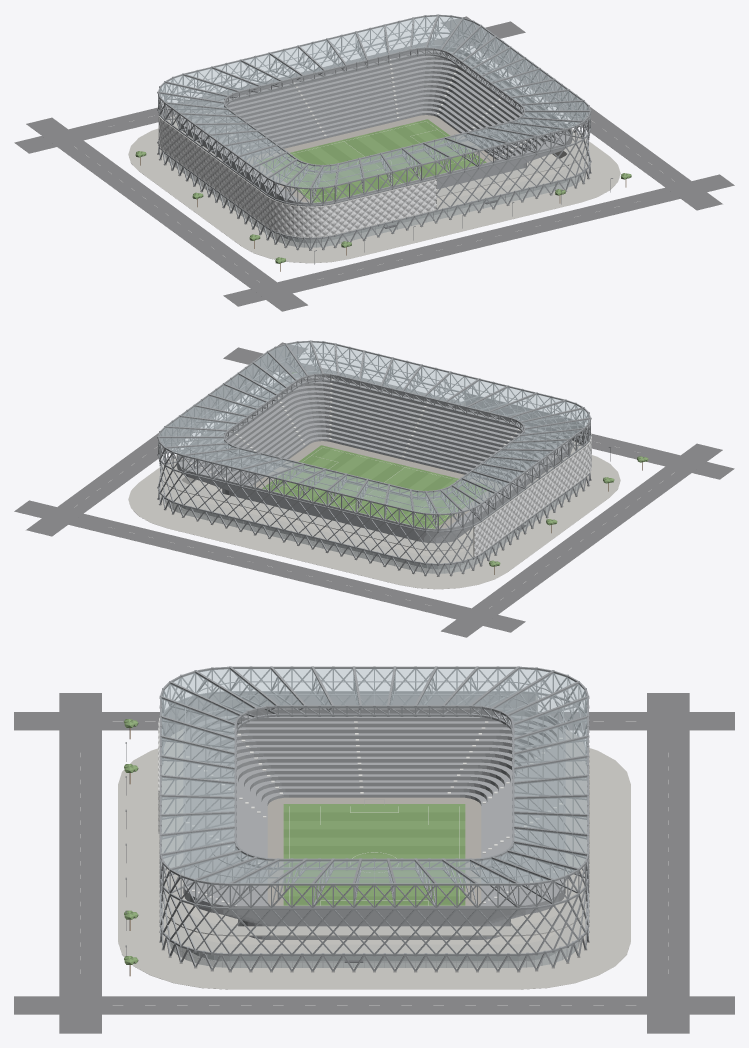
File: clay-etfe-truss-stadium-clay-v002.glb
The picture shows the model from 3 angles, top to bottom: view 1: azimuth 30°, elevation 25°; view 2: azimuth 150°, elevation 25°; view 3: azimuth 270°, elevation 25°; orthographic projection. The views are drawn at different scales.
Parts seen in each view (by area): view 1: CLAY_STEEL, CLAY_GLASS, CLAY_SEAT, CLAY_ASPHALT, CLAY_PAVING, CLAY_ETFE, CLAY_PITCH2, CLAY_PITCH, CLAY_CONCRETE, CLAY_TRIM, CLAY_TRACK, CLAY_PALE (+1 smaller); view 2: CLAY_STEEL, CLAY_SEAT, CLAY_GLASS, CLAY_ASPHALT, CLAY_PAVING, CLAY_CONCRETE, CLAY_PITCH2, CLAY_PITCH, CLAY_ETFE, CLAY_TRACK, CLAY_TRIM, CLAY_INTERIOR (+2 smaller); view 3: CLAY_STEEL, CLAY_SEAT, CLAY_GLASS, CLAY_ASPHALT, CLAY_PAVING, CLAY_CONCRETE, CLAY_PITCH2, CLAY_PITCH, CLAY_TRACK, CLAY_ETFEBACK, CLAY_INTERIOR, CLAY_PALE (+1 smaller).
Part boxes in pixels (x1,y1,x2,y2): CLAY_STEEL: (157, 14, 591, 250); CLAY_GLASS: (160, 16, 588, 247); CLAY_SEAT: (176, 45, 572, 206); CLAY_ASPHALT: (14, 16, 734, 311); CLAY_PAVING: (128, 128, 620, 263); CLAY_ETFE: (158, 116, 436, 237); CLAY_PITCH2: (257, 122, 474, 202); CLAY_PITCH: (269, 119, 486, 200); CLAY_CONCRETE: (167, 114, 589, 237); CLAY_TRIM: (159, 123, 583, 247); CLAY_TRACK: (247, 115, 495, 202); CLAY_PALE: (158, 55, 557, 237); CLAY_STEEL: (157, 340, 591, 576); CLAY_SEAT: (176, 371, 572, 543); CLAY_GLASS: (160, 342, 588, 573); CLAY_ASPHALT: (14, 342, 734, 637); CLAY_PAVING: (128, 455, 620, 589); CLAY_CONCRETE: (159, 440, 581, 563); CLAY_PITCH2: (274, 448, 491, 528); CLAY_PITCH: (262, 445, 479, 526); CLAY_ETFE: (474, 436, 591, 556); CLAY_TRACK: (253, 441, 501, 528); CLAY_TRIM: (165, 446, 590, 573); CLAY_INTERIOR: (180, 461, 560, 569); CLAY_STEEL: (159, 666, 589, 971); CLAY_SEAT: (183, 708, 565, 939); CLAY_GLASS: (161, 669, 587, 967); CLAY_ASPHALT: (14, 693, 734, 1033); CLAY_PAVING: (118, 748, 630, 989); CLAY_CONCRETE: (161, 729, 587, 953); CLAY_PITCH2: (283, 804, 465, 905); CLAY_PITCH: (283, 812, 465, 904); CLAY_TRACK: (267, 797, 481, 905); CLAY_ETFEBACK: (159, 693, 535, 788); CLAY_INTERIOR: (190, 950, 558, 961); CLAY_PALE: (158, 695, 562, 905).
Bounding box in the file's own units: 302 × 36.47 × 270.
